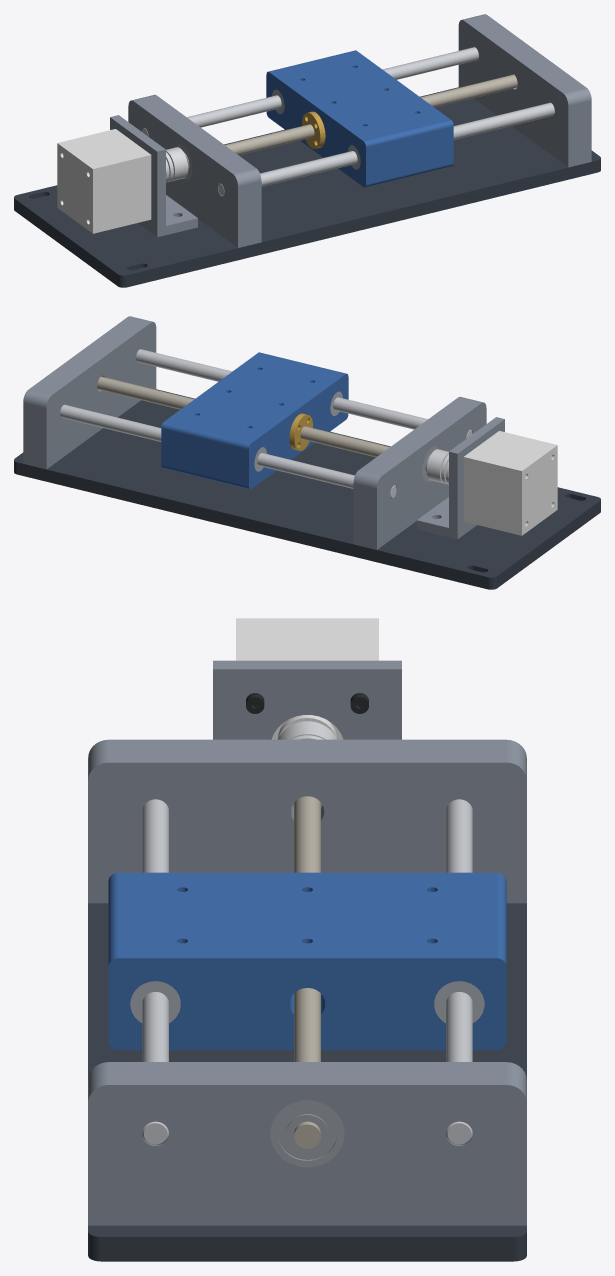
Rendered from linear-stage.glb.
The picture shows the model from 3 angles, top to bottom: view 1: azimuth 30°, elevation 25°; view 2: azimuth 150°, elevation 25°; view 3: azimuth 270°, elevation 25°; orthographic projection. The views are drawn at different scales.
Visible parts, largest first — view 1: base_plate, carriage, end_block:idler_end, end_block:motor_end, nema17_motor, motor_bracket, guide_rod:front, guide_rod:back, lead_screw_tr8x8, shaft_coupler_5x8, t8_nut; view 2: base_plate, carriage, end_block:idler_end, end_block:motor_end, nema17_motor, motor_bracket, guide_rod:back, guide_rod:front, lead_screw_tr8x8, shaft_coupler_5x8, t8_nut; view 3: end_block:idler_end, carriage, end_block:motor_end, base_plate, motor_bracket, nema17_motor, lead_screw_tr8x8, guide_rod:front, guide_rod:back, bearing_608:idler_end, lm8uu:front_right, lm8uu:back_right (+1 smaller).
Part boxes in pixels (box(x1,y1,x2,y2)): base_plate: box(14, 87, 600, 287); carriage: box(266, 50, 453, 187); end_block:idler_end: box(458, 14, 591, 167); end_block:motor_end: box(128, 94, 261, 247); nema17_motor: box(57, 129, 151, 233); motor_bracket: box(110, 115, 197, 237); guide_rod:front: box(218, 102, 554, 195); guide_rod:back: box(142, 47, 478, 136); lead_screw_tr8x8: box(225, 74, 517, 155); shaft_coupler_5x8: box(166, 147, 188, 182); t8_nut: box(302, 111, 325, 148); base_plate: box(14, 389, 600, 589); carriage: box(161, 352, 348, 489); end_block:idler_end: box(23, 316, 156, 469); end_block:motor_end: box(353, 396, 486, 549); nema17_motor: box(463, 431, 557, 535); motor_bracket: box(417, 417, 504, 539); guide_rod:back: box(60, 404, 396, 497); guide_rod:front: box(136, 349, 472, 438); lead_screw_tr8x8: box(97, 376, 389, 457); shaft_coupler_5x8: box(426, 449, 448, 484); t8_nut: box(289, 413, 312, 450); end_block:idler_end: box(88, 1062, 526, 1225); carriage: box(108, 872, 506, 1049); end_block:motor_end: box(88, 739, 526, 903); base_plate: box(88, 903, 526, 1261); motor_bracket: box(213, 660, 401, 739); nema17_motor: box(236, 618, 378, 739); lead_screw_tr8x8: box(294, 796, 320, 1148); guide_rod:front: box(142, 799, 168, 1145); guide_rod:back: box(446, 799, 472, 1145); bearing_608:idler_end: box(270, 1100, 344, 1167); lm8uu:front_right: box(130, 981, 180, 1023); lm8uu:back_right: box(434, 981, 484, 1022).
Size of the model in its own units: 0.33 by 0.064 by 0.13.
